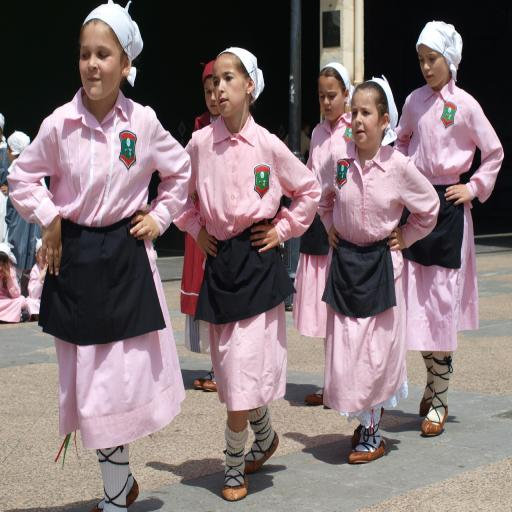Person: (0, 59, 193, 457), (171, 69, 327, 448), (295, 90, 454, 433), (385, 54, 512, 424)
no_boots: (331, 356, 397, 420), (240, 358, 302, 423), (416, 342, 466, 407), (208, 392, 255, 444)
no_gloves: (123, 200, 182, 260), (436, 183, 496, 233), (247, 216, 297, 267), (31, 218, 73, 273), (183, 222, 233, 266), (381, 215, 413, 264), (322, 216, 354, 262)
no_goggle: (72, 86, 132, 120), (205, 103, 259, 136), (399, 91, 461, 113), (342, 136, 390, 155)
no_helmet: (58, 51, 162, 142), (394, 68, 472, 136), (198, 93, 282, 153), (341, 116, 411, 178)
none: (36, 128, 188, 252), (182, 155, 314, 268), (318, 165, 442, 260), (400, 120, 504, 231)
